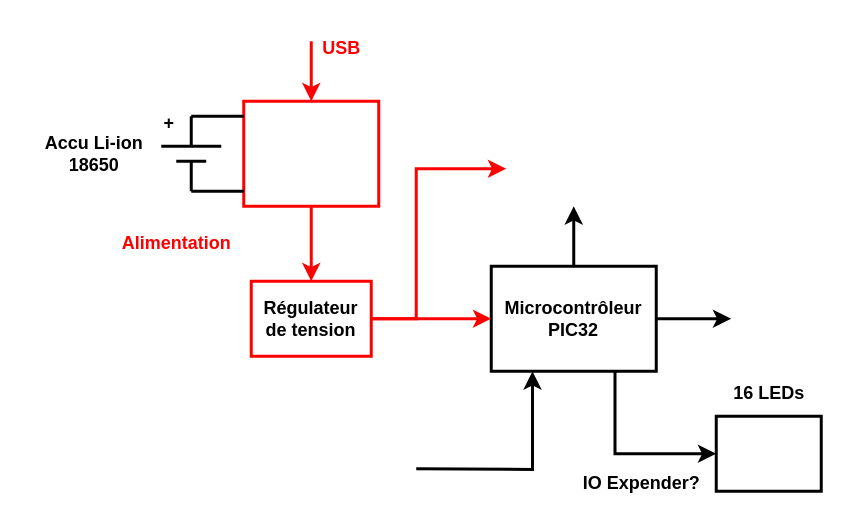
Image size: 848x531. Some labels were removed from this diagram. Each missing label, with the centre of its shape:
"Contrôleur de charge" goes at pixel 311 153.
"Interface lumineuse" goes at pixel 768 453.
